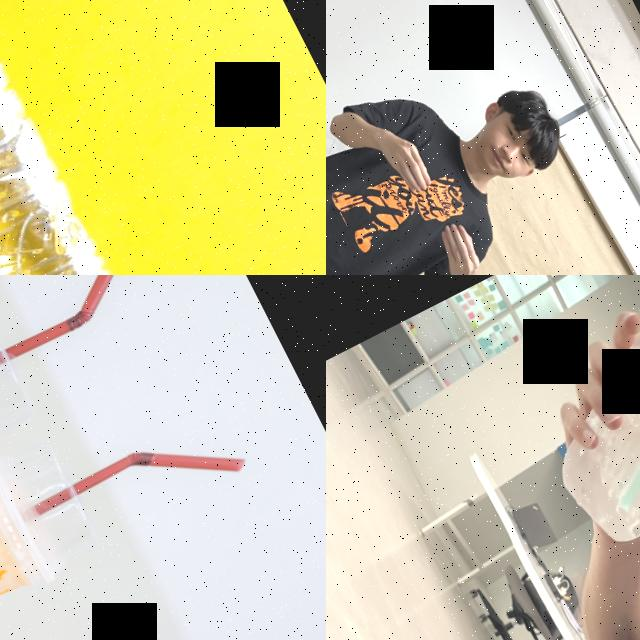bottle: (0, 0, 220, 275)
cup: (504, 275, 640, 559), (0, 427, 110, 640)
